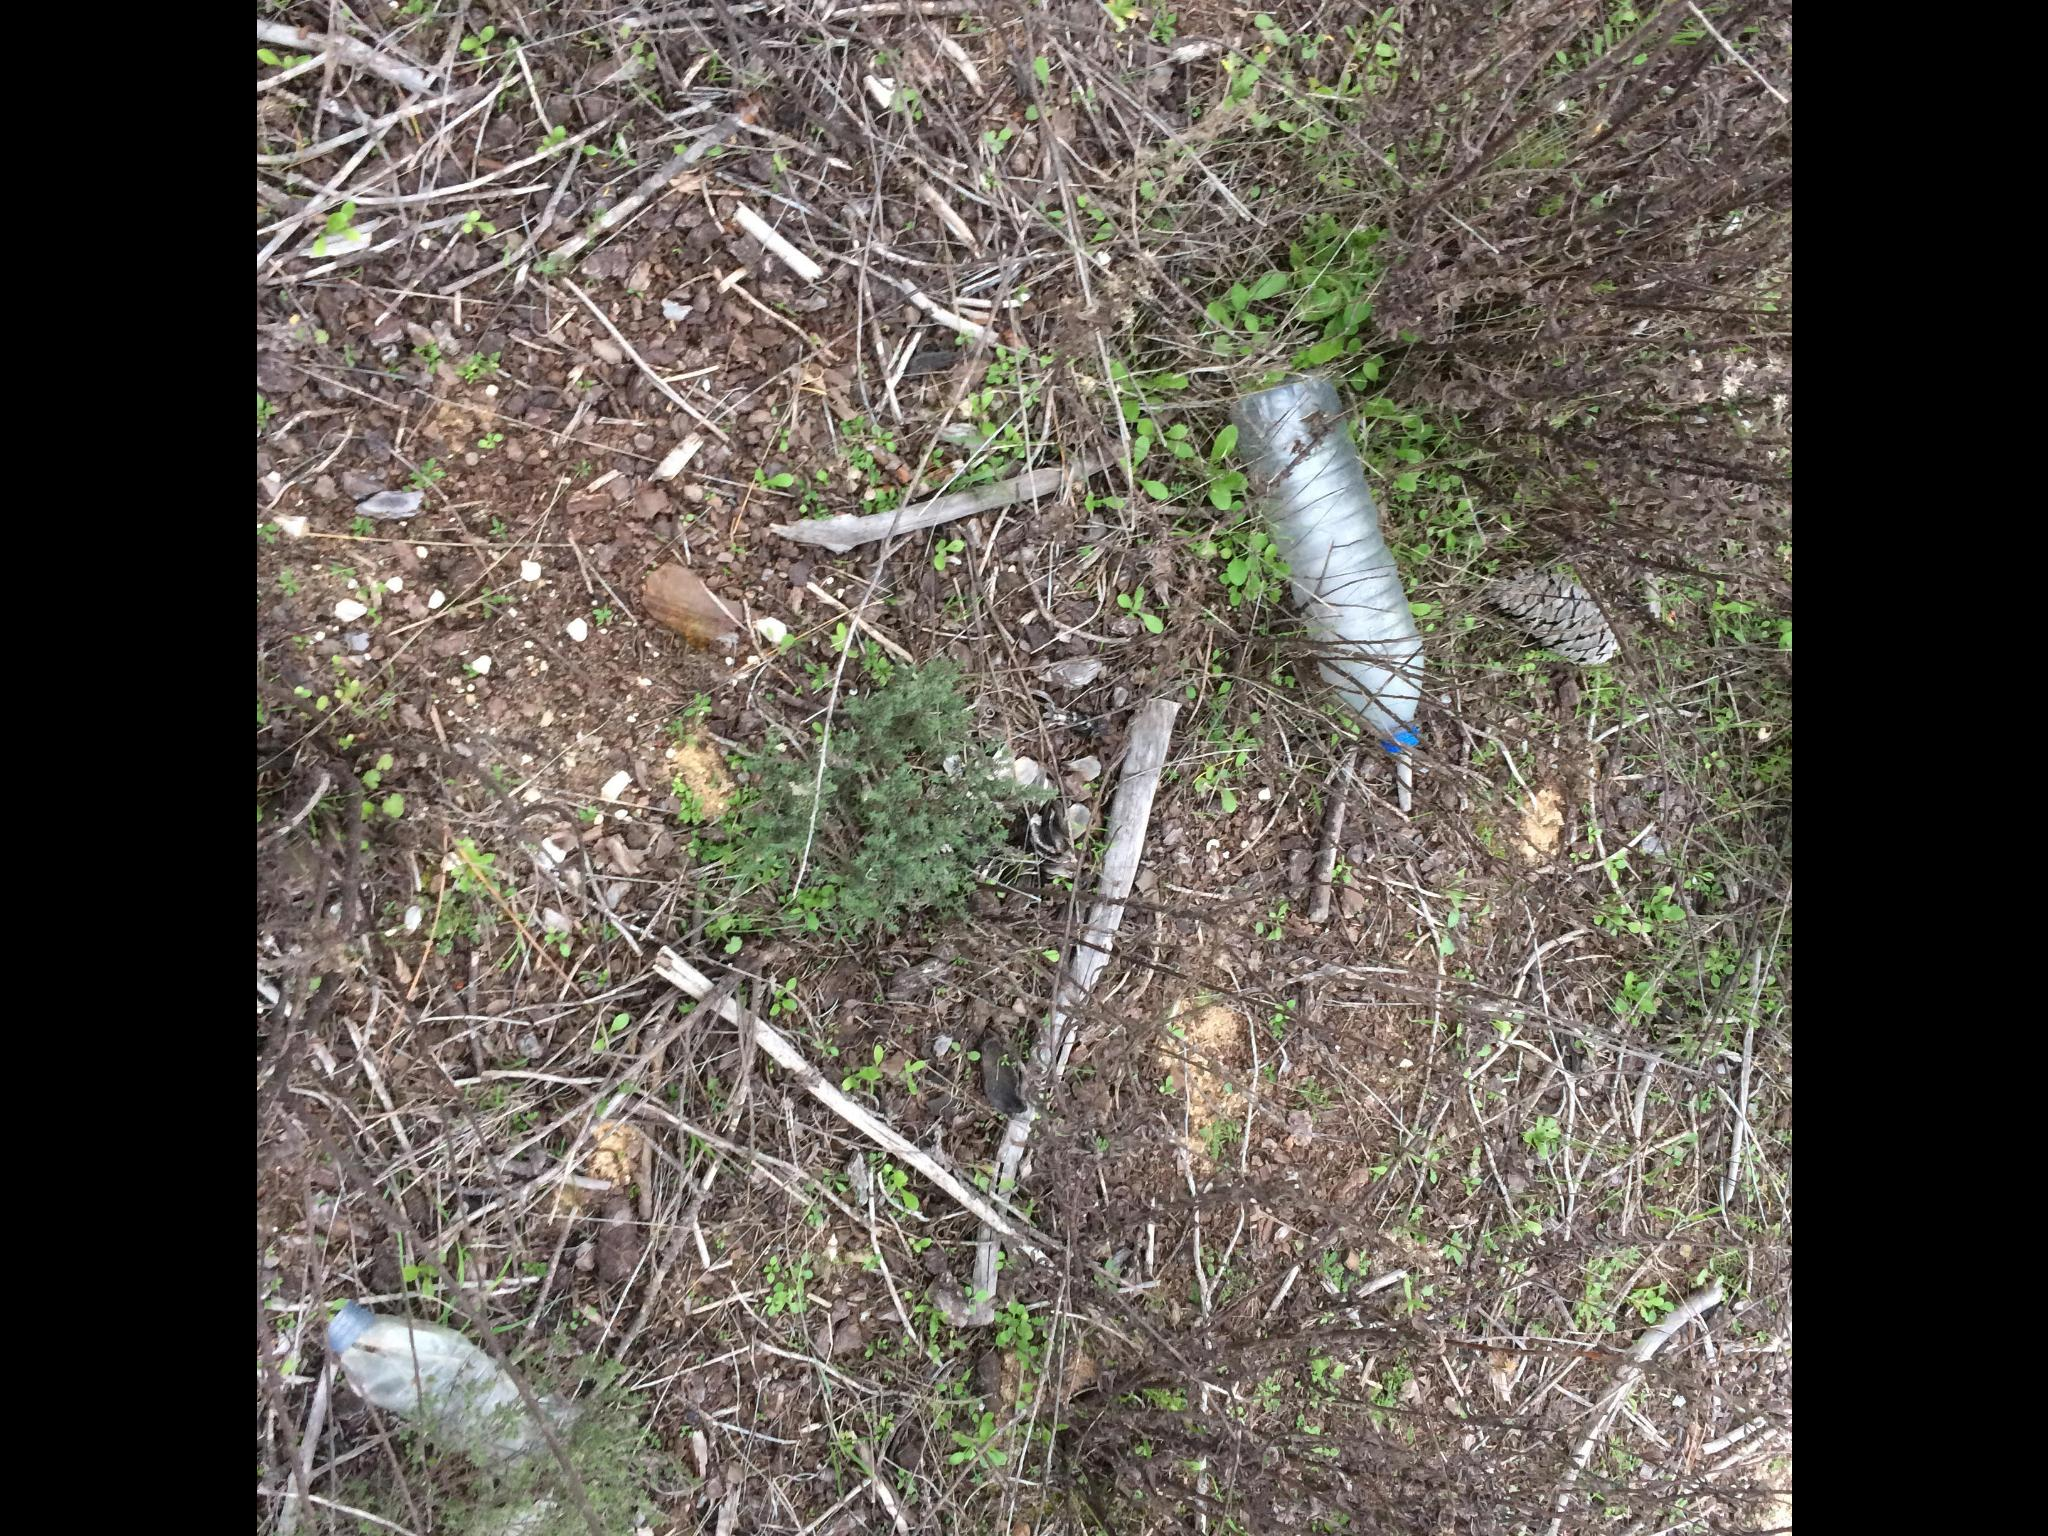bottle: (1250, 350, 1440, 763), (302, 1279, 547, 1497)
